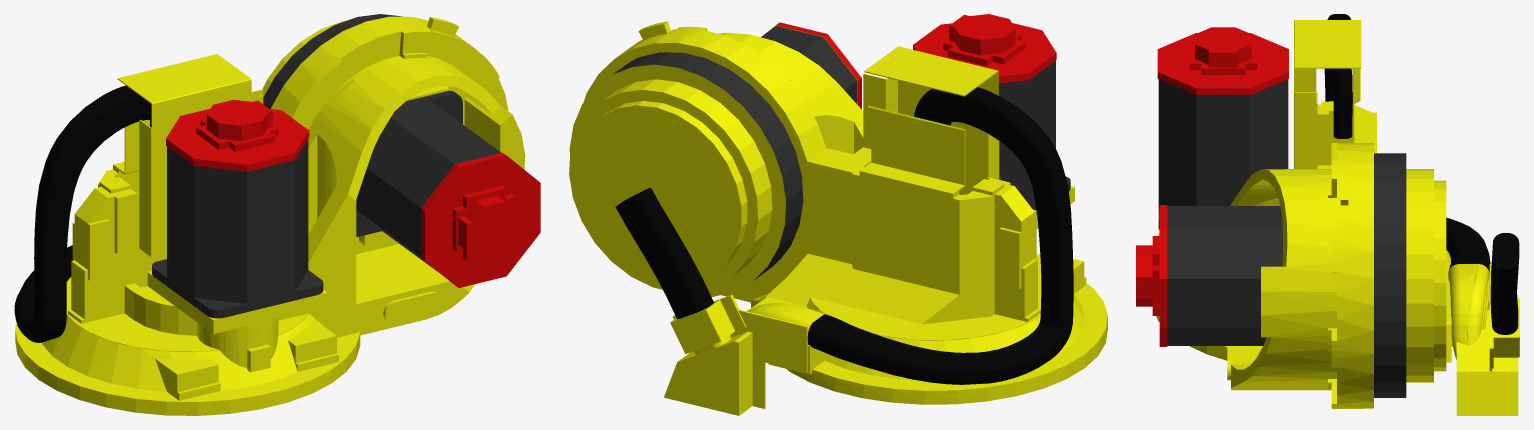
3 views of the same model, side by side, from view 1: azimuth 30°, elevation 25°; view 2: azimuth 150°, elevation 25°; view 3: azimuth 270°, elevation 25° (orthographic). The views are drawn at different scales.
Parts seen in each view (by area): view 1: New object; view 2: New object; view 3: New object.
Part boxes in pixels (<box>): New object: <box>14,14,540,415</box>; New object: <box>569,14,1107,415</box>; New object: <box>1136,14,1519,415</box>.
Size of the model in its own units: 0.7215 by 0.509 by 0.4323.
